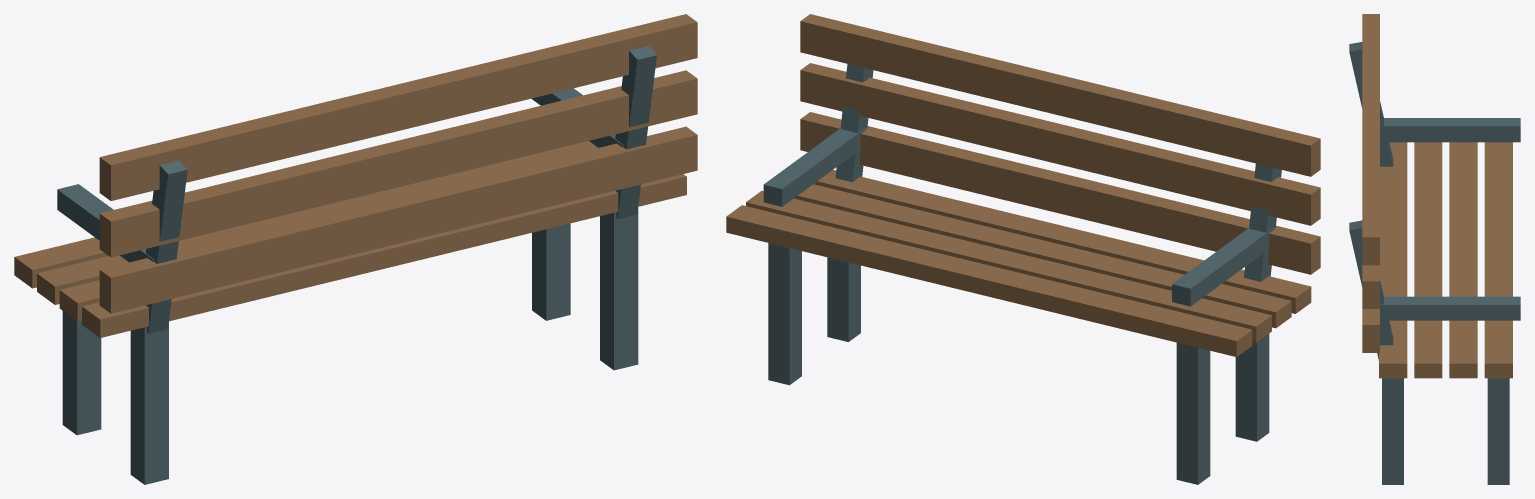
The model's file is KOL_HBR_PROP_08.fbx.
The picture shows the model from 3 angles, left to right: view 1: azimuth 30°, elevation 25°; view 2: azimuth 150°, elevation 25°; view 3: azimuth 270°, elevation 25°; orthographic projection. The views are drawn at different scales.
Parts seen in each view (by area): view 1: KOL_HBR_PROP_08__Model__Timber, KOL_HBR_PROP_08__Model__DarkSteel; view 2: KOL_HBR_PROP_08__Model__Timber, KOL_HBR_PROP_08__Model__DarkSteel; view 3: KOL_HBR_PROP_08__Model__Timber, KOL_HBR_PROP_08__Model__DarkSteel.
Boxes of the visible parts, box(x1,y1,x2,y2) form: KOL_HBR_PROP_08__Model__Timber: box(14, 14, 697, 337); KOL_HBR_PROP_08__Model__DarkSteel: box(57, 46, 656, 484); KOL_HBR_PROP_08__Model__Timber: box(726, 14, 1320, 356); KOL_HBR_PROP_08__Model__DarkSteel: box(763, 64, 1281, 484); KOL_HBR_PROP_08__Model__Timber: box(1362, 14, 1512, 378); KOL_HBR_PROP_08__Model__DarkSteel: box(1349, 42, 1520, 484).
Bounding box in the file's own units: 6 × 3.33 × 1.95.
